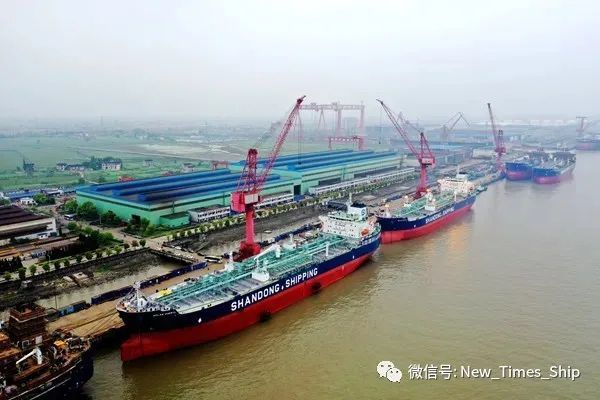Cargoship: (112, 197, 383, 362), (373, 166, 486, 243), (529, 145, 579, 187), (496, 146, 550, 184)
